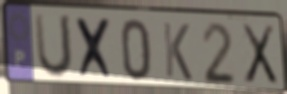0: (119, 16, 153, 83)
2: (200, 20, 237, 86)
K: (161, 20, 194, 83)
U: (33, 11, 75, 82)
X: (73, 15, 117, 82), (239, 22, 279, 87)
